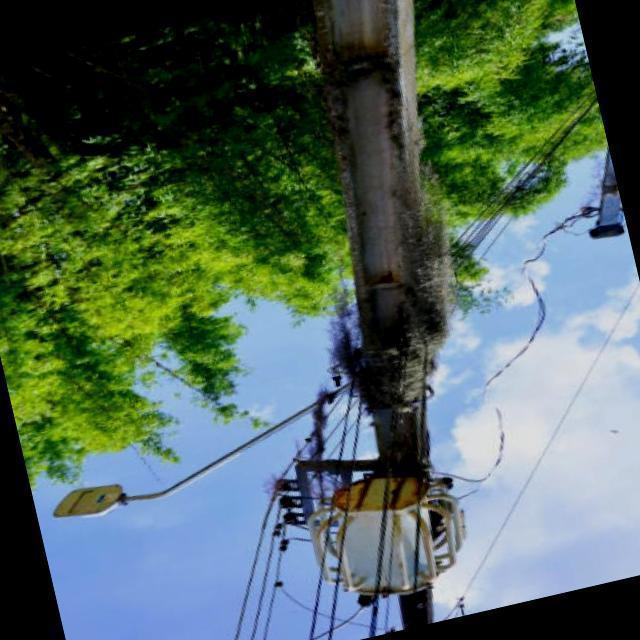critical vegetation: (303, 206, 508, 439)
